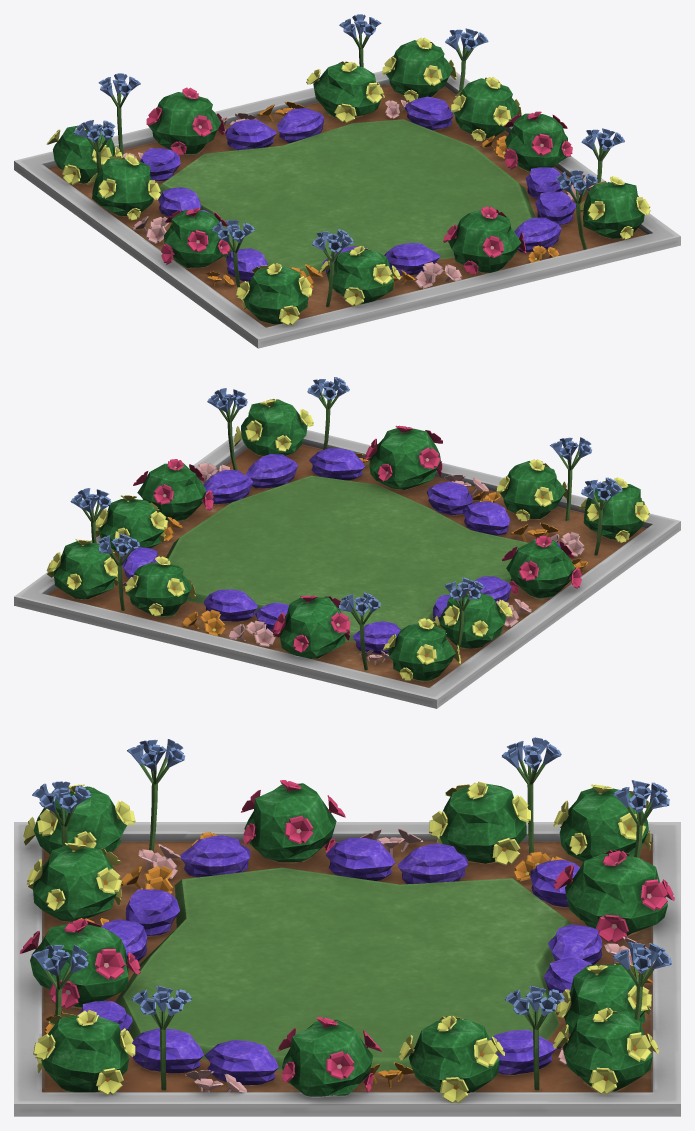
The model's file is garden.glb.
The picture shows the model from 3 angles, top to bottom: view 1: azimuth 30°, elevation 25°; view 2: azimuth 150°, elevation 25°; view 3: azimuth 270°, elevation 25°; orthographic projection. The views are drawn at different scales.
Parts seen in each view (by area): view 1: Garden_mesh; view 2: Garden_mesh; view 3: Garden_mesh.
Boxes of the visible parts, x1,y1,x2,y2 form: Garden_mesh: [14, 14, 680, 348]; Garden_mesh: [14, 377, 680, 708]; Garden_mesh: [14, 737, 680, 1116].
Bounding box in the file's own units: 24.18 × 4.27 × 23.96.
1 material, 1 textured.
